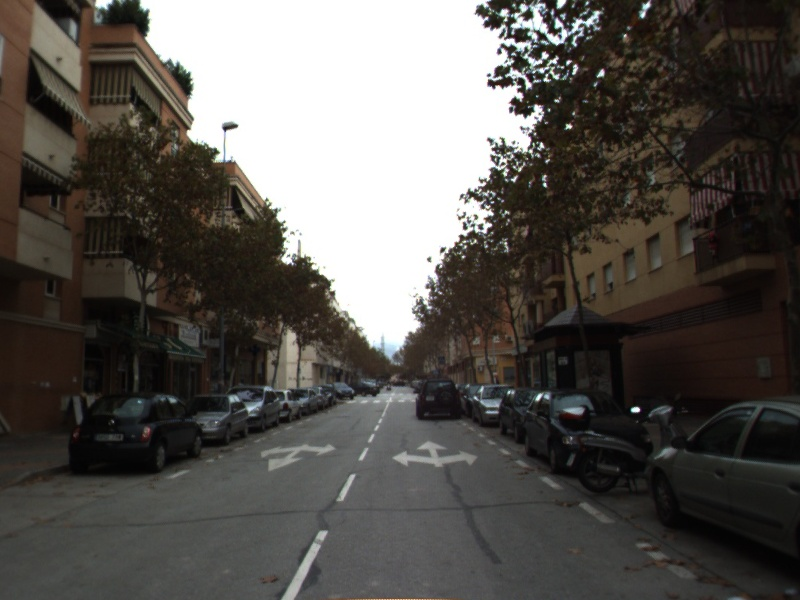STRAIGHT_LEFT_RIGHT: (390, 438, 481, 469)
